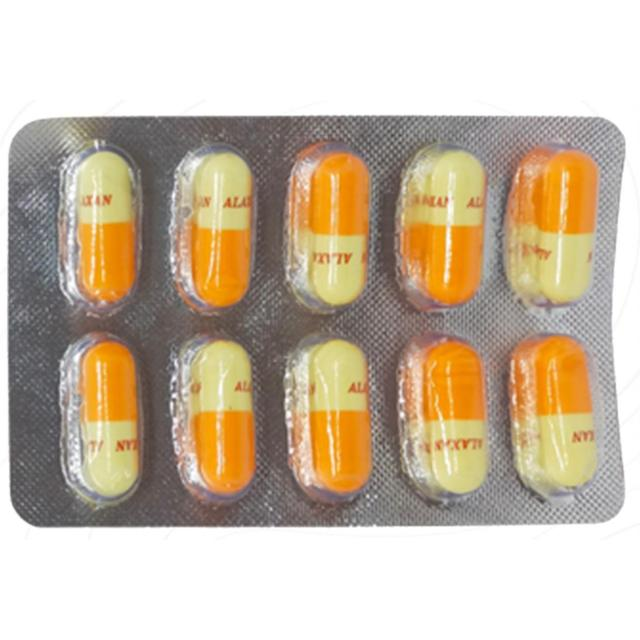blister: (0, 113, 635, 531)
